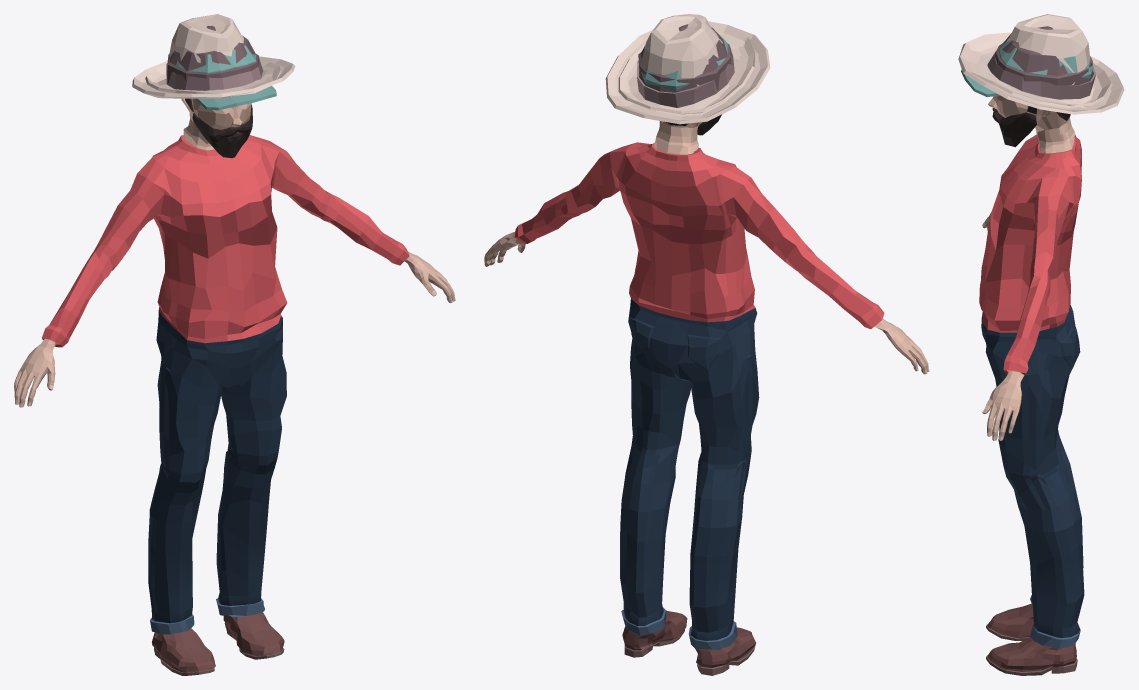
The model's file is character_NPC_M_04.fbx.
3 views of the same model, side by side, from view 1: azimuth 30°, elevation 25°; view 2: azimuth 150°, elevation 25°; view 3: azimuth 270°, elevation 25° (orthographic).
Visible parts, largest first — view 1: charaBody_npcM_V04_geo, charaProps_NPC_M_V03_geo, charaProps_NPC_M_V01_geo, charaProps_NPC_M_V02_geo, charaProps_NPC_M_V05_geo, charaProps_NPC_M_V04_geo; view 2: charaBody_npcM_V04_geo, charaProps_NPC_M_V03_geo, charaProps_NPC_M_V04_geo, charaProps_NPC_M_V05_geo, charaProps_NPC_M_V01_geo; view 3: charaBody_npcM_V04_geo, charaProps_NPC_M_V03_geo, charaProps_NPC_M_V01_geo, charaProps_NPC_M_V04_geo, charaProps_NPC_M_V05_geo, charaProps_NPC_M_V02_geo, charaBeard_NPC_M_V01_geo, charaBeard_NPC_M_V02_geo.
Boxes of the visible parts, box(x1,y1,x2,y2) form: charaBody_npcM_V04_geo: box(14, 98, 455, 675); charaProps_NPC_M_V03_geo: box(132, 14, 295, 98); charaProps_NPC_M_V01_geo: box(167, 26, 259, 83); charaProps_NPC_M_V02_geo: box(170, 45, 276, 110); charaProps_NPC_M_V05_geo: box(166, 59, 263, 90); charaProps_NPC_M_V04_geo: box(145, 61, 281, 96); charaBody_npcM_V04_geo: box(484, 121, 929, 675); charaProps_NPC_M_V03_geo: box(605, 14, 770, 124); charaProps_NPC_M_V04_geo: box(618, 36, 754, 114); charaProps_NPC_M_V05_geo: box(637, 47, 734, 107); charaProps_NPC_M_V01_geo: box(638, 24, 731, 92); charaBody_npcM_V04_geo: box(979, 95, 1084, 675); charaProps_NPC_M_V03_geo: box(958, 14, 1124, 114); charaProps_NPC_M_V01_geo: box(994, 26, 1093, 85); charaProps_NPC_M_V04_geo: box(969, 40, 1112, 108); charaProps_NPC_M_V05_geo: box(987, 50, 1095, 99); charaProps_NPC_M_V02_geo: box(961, 39, 1093, 97); charaBeard_NPC_M_V01_geo: box(994, 109, 1036, 133); charaBeard_NPC_M_V02_geo: box(999, 126, 1028, 147).
Bounding box in the file's own units: 339 × 464 × 112.
